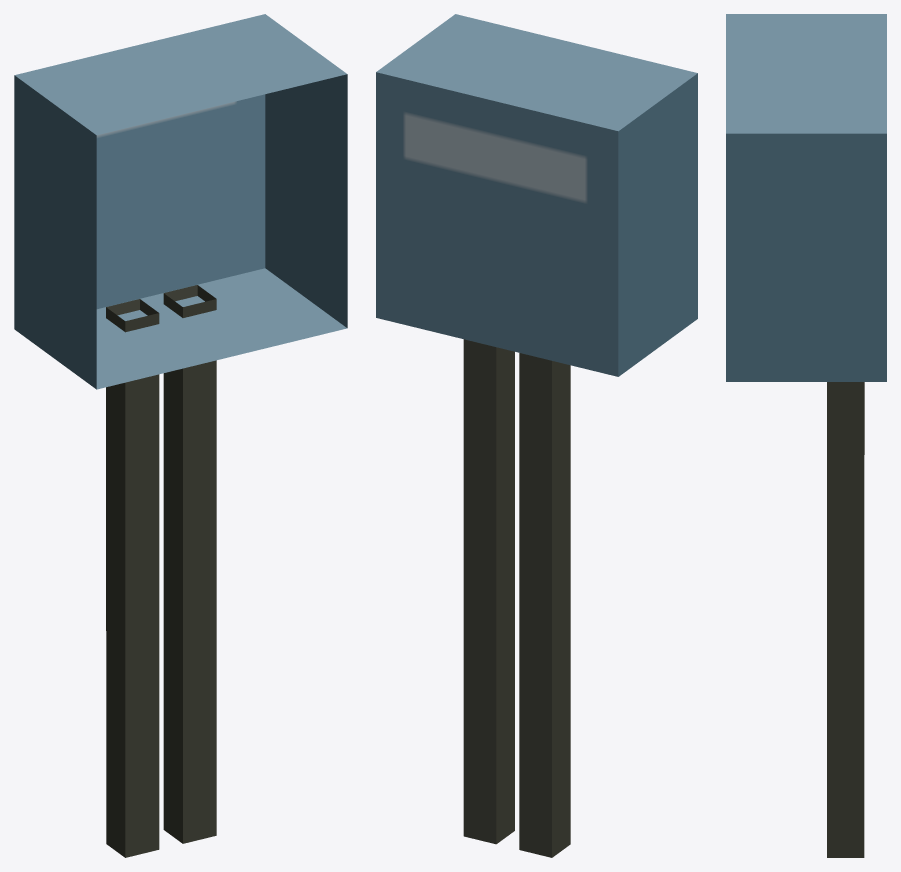
Rendered from WallBox_01.fbx.
3 renders of one model, left to right at view 1: azimuth 30°, elevation 25°; view 2: azimuth 150°, elevation 25°; view 3: azimuth 270°, elevation 25°, orthographic. The views are drawn at different scales.
Visible parts, largest first — view 1: WallBox_01; view 2: WallBox_01; view 3: WallBox_01.
Boxes of the visible parts, left/top/right/bottom form: WallBox_01: left=14, top=14, right=347, bottom=857; WallBox_01: left=376, top=14, right=697, bottom=857; WallBox_01: left=726, top=14, right=886, bottom=857.
Bounding box in the file's own units: 0.6191 × 1.84 × 0.3515.
